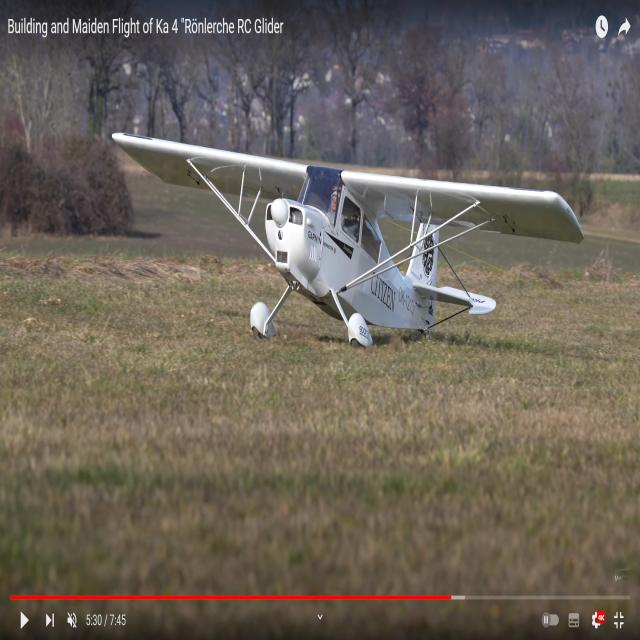iha: (120, 131, 610, 347)
